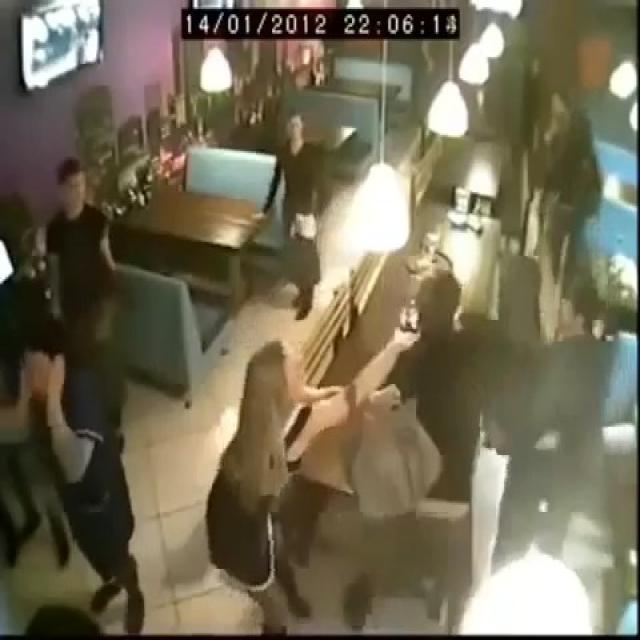fight: (364, 181, 532, 478)
